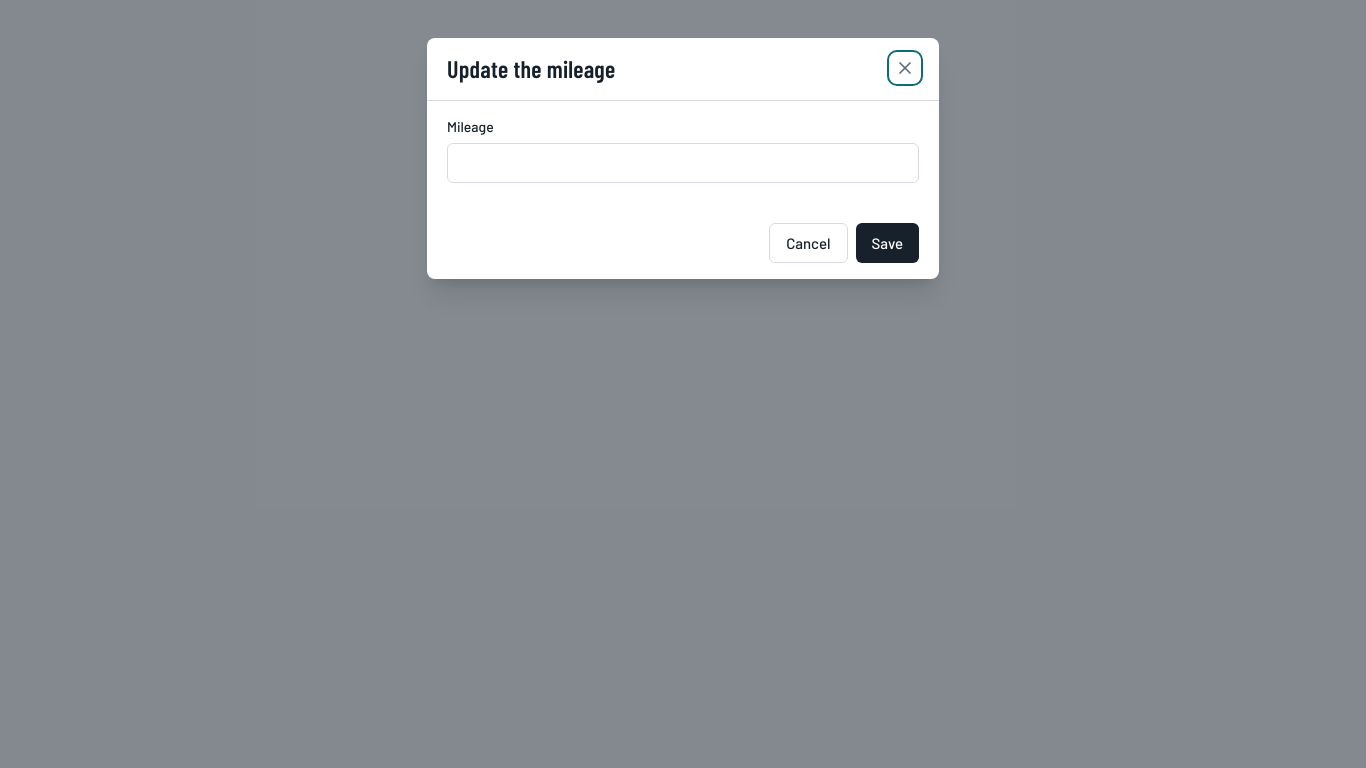
it: useFormSubmit › submits parsed values and confirms with a toast
In the field labelled "Mileage": (683, 163) [447,143,919,183], type "98400"
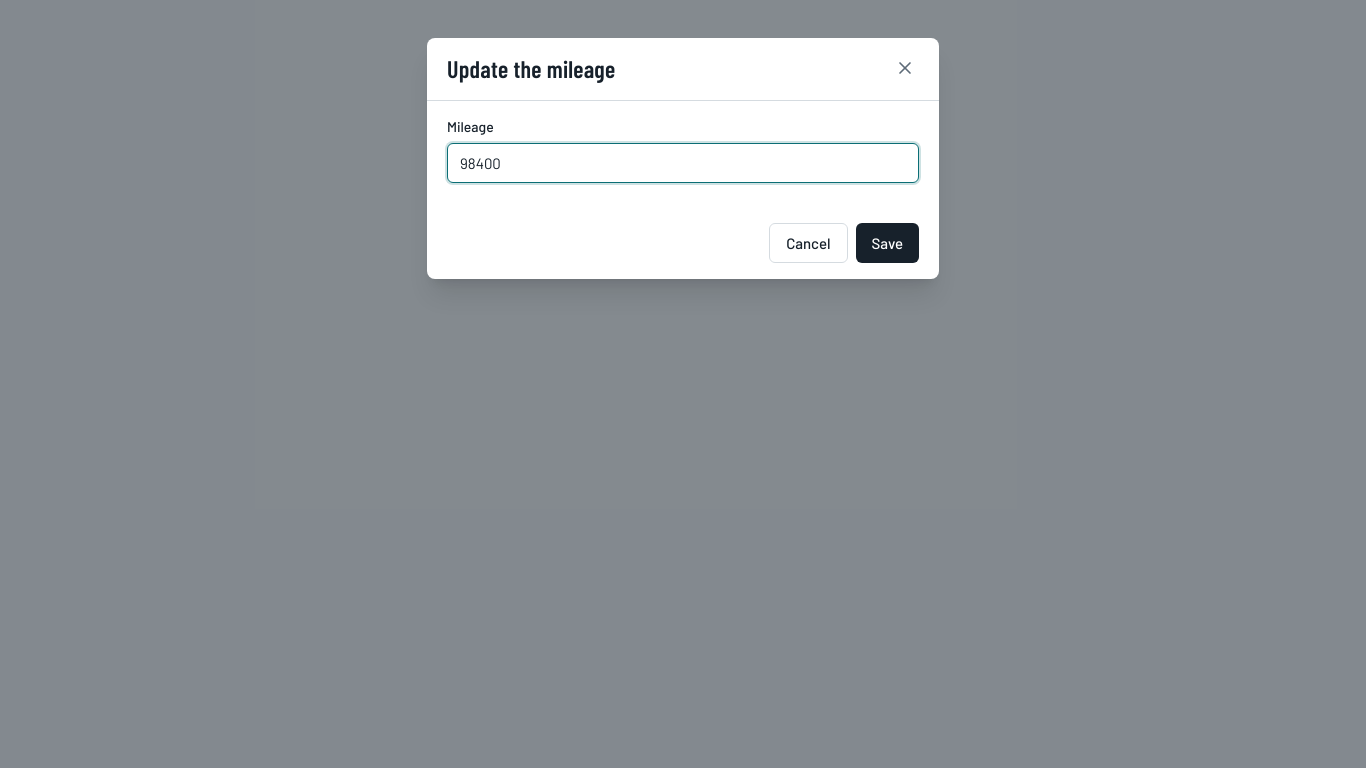
Click the button "Save": (887, 243) [856,223,919,263]
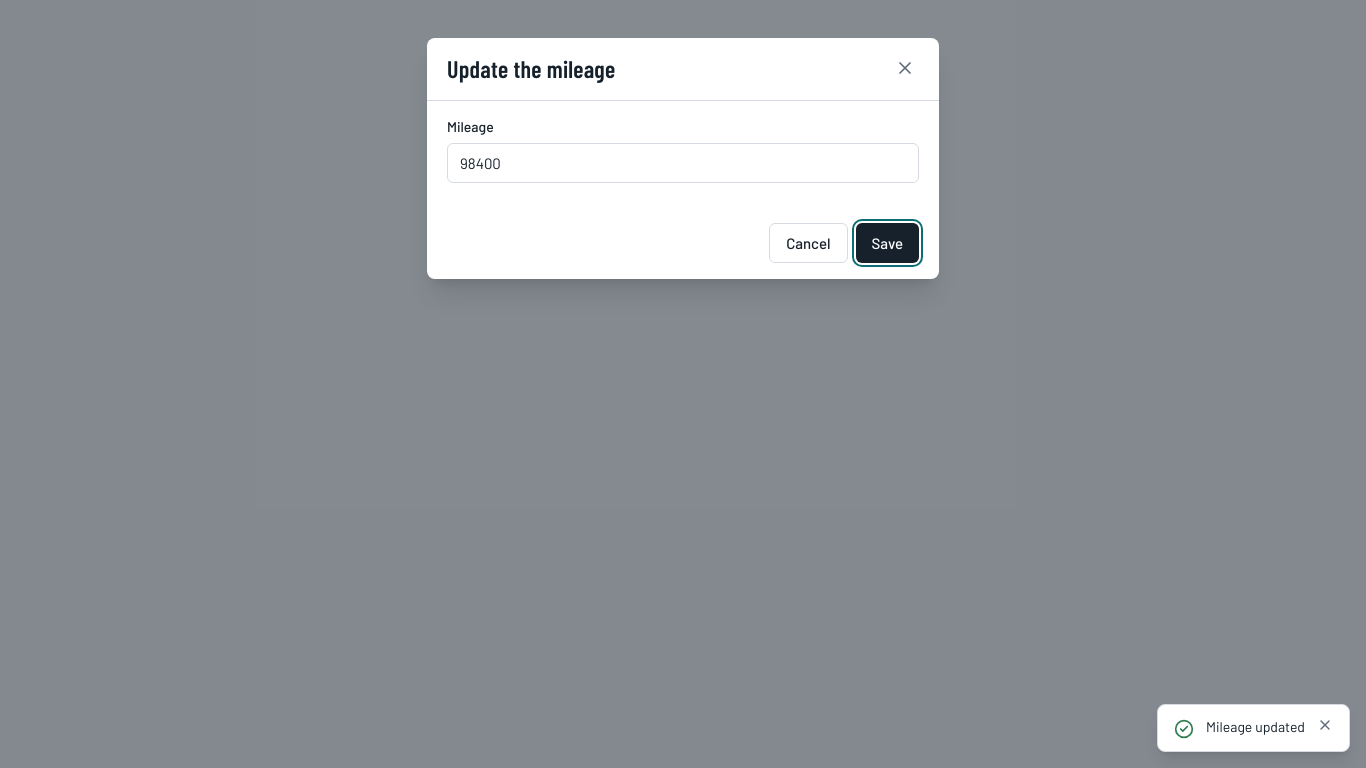
Check: the text "Mileage updated" is shown, box [1206,717,1305,737]
